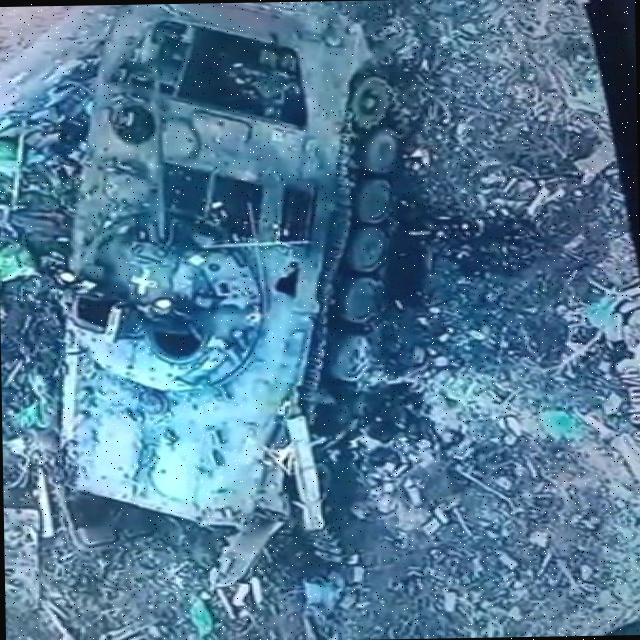Destroyed: (64, 2, 416, 529)
